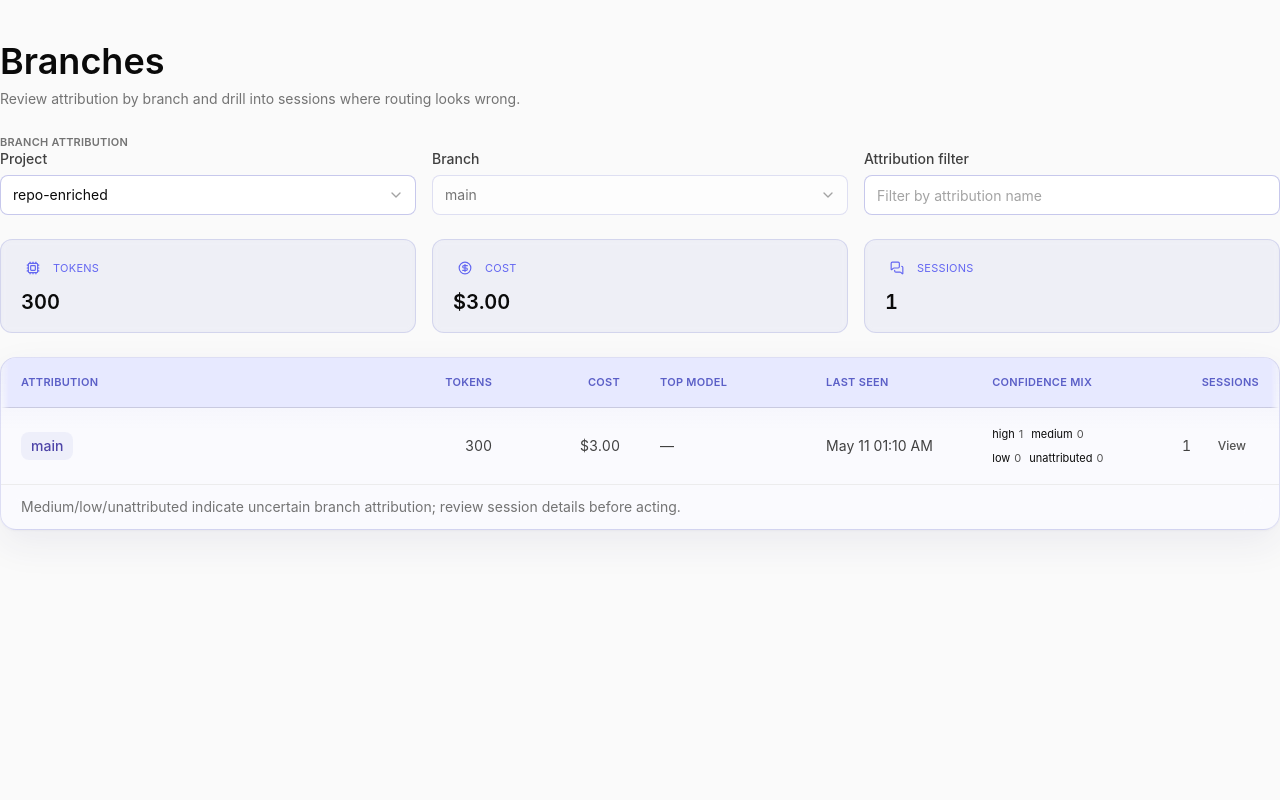
BranchesPage › shows enriched usage in branch drawer model date buckets and session rows
Expected: the dropdown labelled "Project" is shown, [0,176,416,216]
Click the button with aria-label "view sessions" at (1232,446), box [1205,430,1259,462]
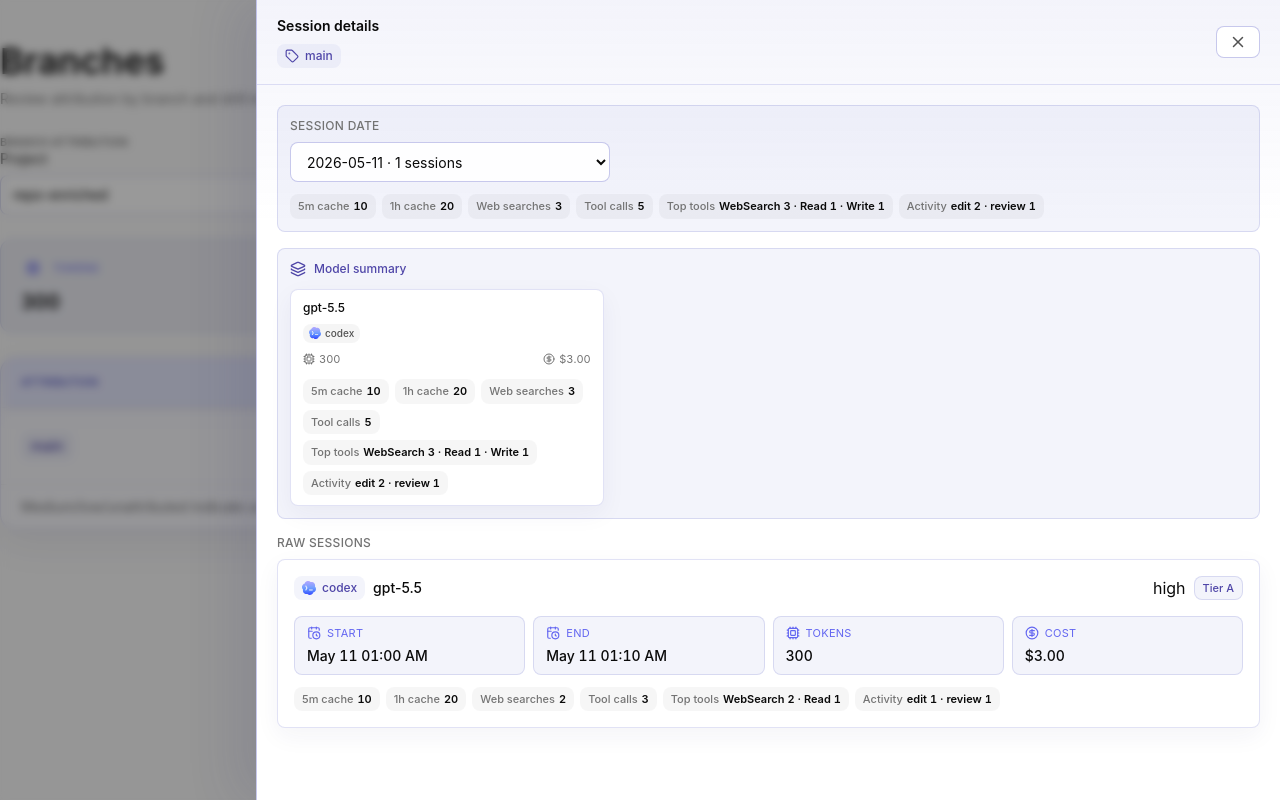
Expected: the dialog "Session details" is shown
Expected: the text "5m cache" below "Session date" is shown, [298,199,350,213]
Expected: the text "1h cache" below "Session date" is shown, [390,199,436,213]
